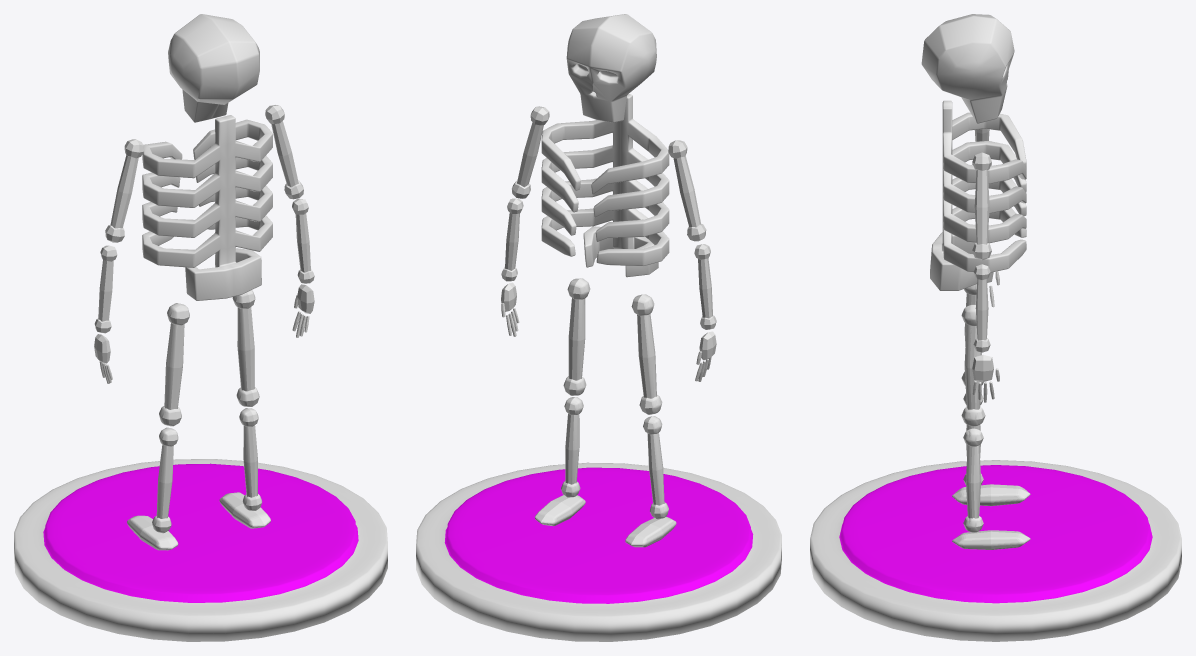
File: skeleton.fbx
The picture shows the model from 3 angles, left to right: view 1: azimuth 30°, elevation 25°; view 2: azimuth 150°, elevation 25°; view 3: azimuth 270°, elevation 25°; orthographic projection. The views are drawn at different scales.
Parts seen in each view (by area): view 1: Cylinder, Cube.001, Cube, Cube.003, Cube.006, Cube.004, Cube.002; view 2: Cylinder, Cube.001, Cube, Cube.003, Cube.006, Cube.004, Cube.002; view 3: Cylinder, Cube.001, Cube, Cube.006, Cube.002, Cube.003.
Part boxes in pixels (x1,y1,x2,y2): Cylinder: [14, 459, 387, 641]; Cube.001: [142, 115, 272, 300]; Cube: [168, 14, 259, 122]; Cube.003: [127, 303, 189, 550]; Cube.006: [219, 290, 270, 528]; Cube.004: [94, 139, 143, 383]; Cube.002: [265, 105, 314, 337]; Cylinder: [416, 462, 781, 641]; Cube.001: [541, 94, 669, 277]; Cube: [566, 14, 656, 122]; Cube.003: [625, 294, 676, 547]; Cube.006: [535, 278, 590, 526]; Cube.004: [668, 140, 716, 381]; Cube.002: [501, 106, 549, 336]; Cylinder: [810, 460, 1181, 641]; Cube.001: [930, 100, 1026, 290]; Cube: [921, 14, 1014, 123]; Cube.006: [952, 304, 1030, 549]; Cube.002: [972, 152, 999, 402]; Cube.003: [952, 284, 1030, 506].
Bounding box in the file's own units: 693 × 1129 × 693.
